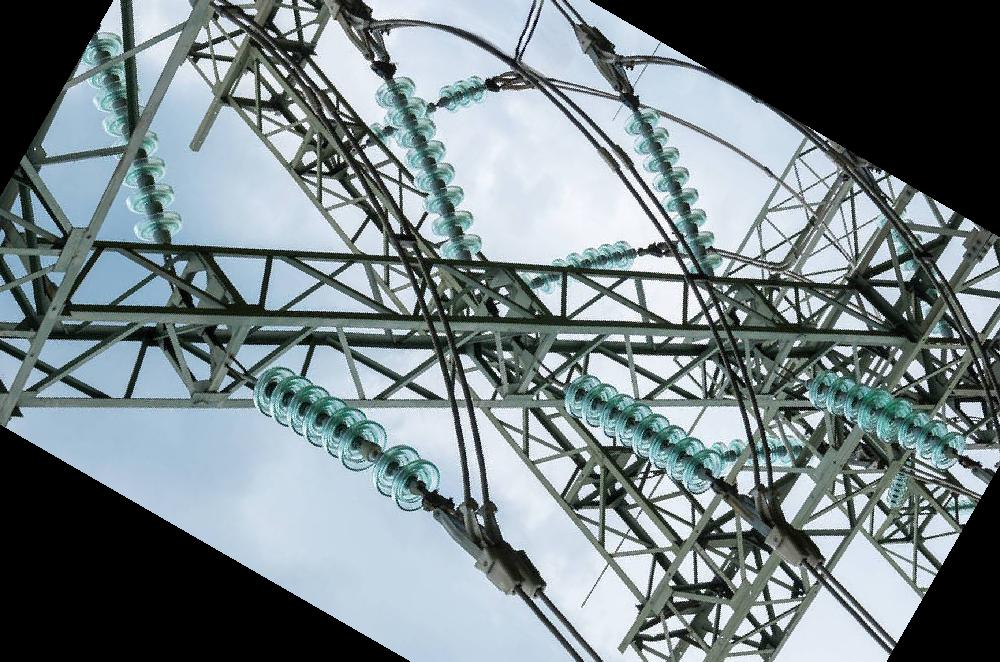insulator: (248, 363, 447, 516), (78, 26, 188, 244), (371, 72, 488, 265), (561, 371, 725, 496), (621, 103, 728, 278), (805, 367, 968, 474), (525, 236, 639, 296), (713, 431, 810, 471), (435, 71, 492, 115)
insulator_stringdrop: (331, 418, 420, 497)
